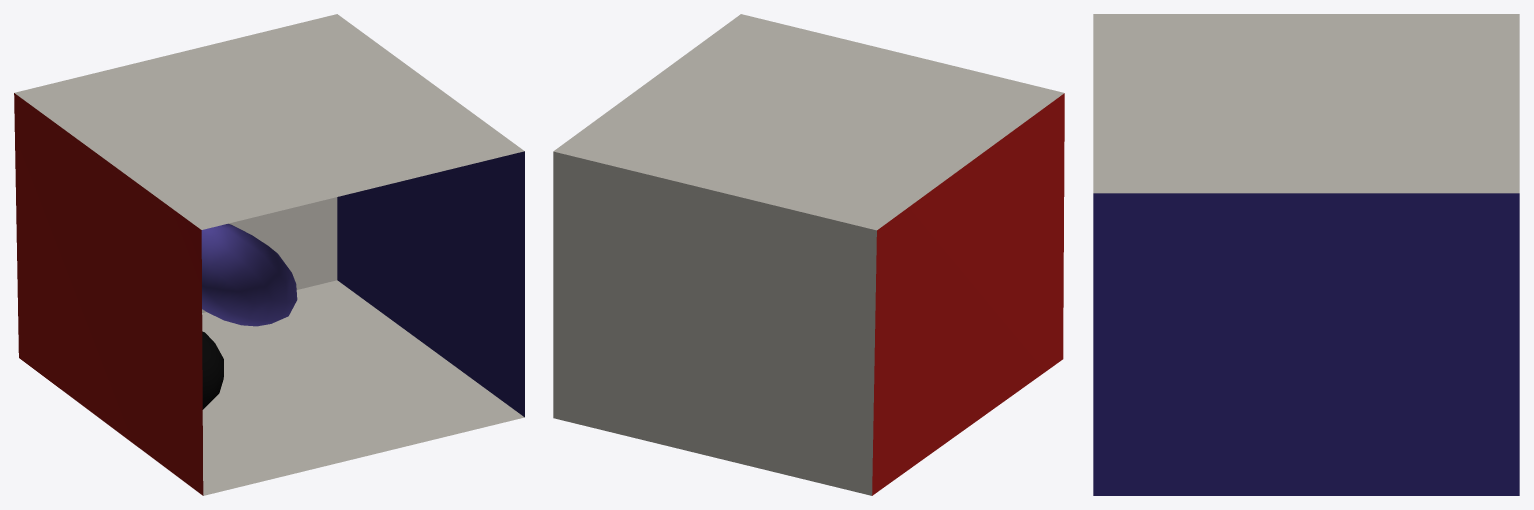
Rendered from CornellBox-Ellipsoid-210.obj.
3 renders of one model, left to right at view 1: azimuth 30°, elevation 25°; view 2: azimuth 150°, elevation 25°; view 3: azimuth 270°, elevation 25°, orthographic. The views are drawn at different scales.
Visible parts, largest first — view 1: ceiling, leftWall, floor, rightWall, leftSphere, backWall, rightSphere; view 2: backWall, ceiling, leftWall; view 3: rightWall, ceiling.
Boxes of the visible parts, x1,y1,x2,y2 form: ceiling: [14, 14, 524, 229]; leftWall: [14, 93, 203, 495]; floor: [202, 280, 524, 495]; rightWall: [337, 151, 524, 417]; leftSphere: [201, 223, 297, 326]; backWall: [202, 197, 337, 312]; rightSphere: [202, 331, 223, 409]; backWall: [553, 151, 876, 495]; ceiling: [553, 14, 1064, 230]; leftWall: [872, 93, 1064, 495]; rightWall: [1093, 193, 1519, 495]; ceiling: [1093, 14, 1519, 193].
Bounding box in the file's own units: 2.02 × 1.59 × 2.03.
